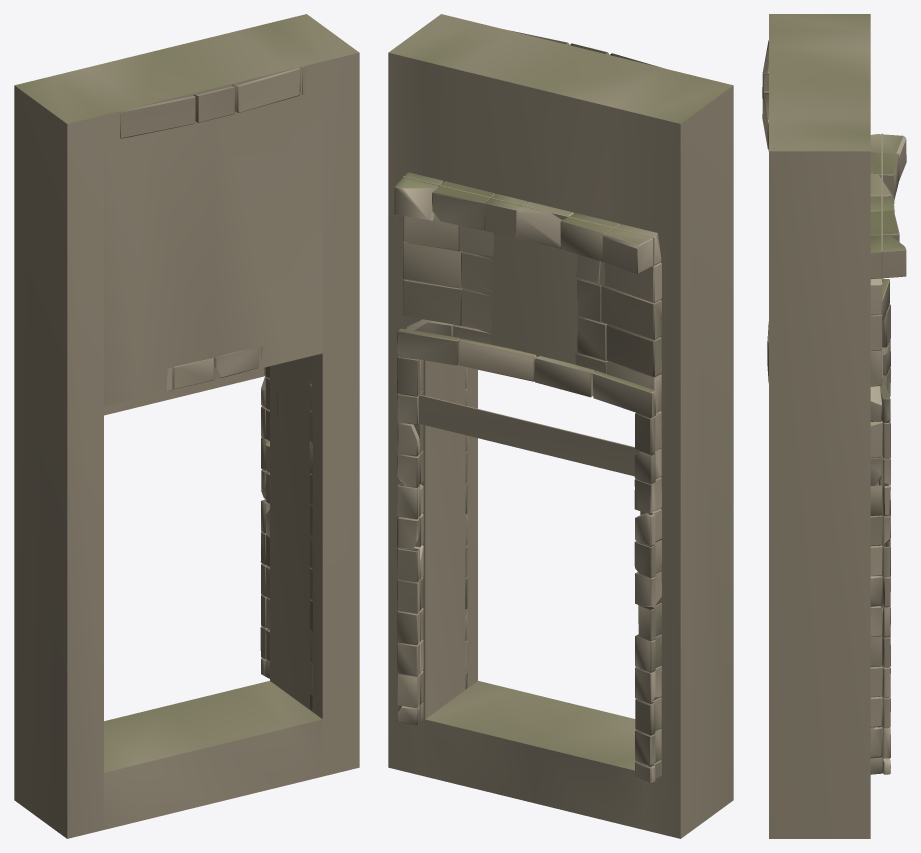
Rendered from dome_drum_door.glb.
3 views of the same model, side by side, from view 1: azimuth 30°, elevation 25°; view 2: azimuth 150°, elevation 25°; view 3: azimuth 270°, elevation 25° (orthographic). The views are drawn at different scales.
Parts seen in each view (by area): view 1: dome_drum_door_far, dome_drum_door; view 2: dome_drum_door_far, dome_drum_door; view 3: dome_drum_door_far, dome_drum_door.
Part boxes in pixels (box(x1,y1,x2,y2)): dome_drum_door_far: box(14, 14, 359, 838); dome_drum_door: box(120, 66, 312, 710); dome_drum_door_far: box(388, 14, 733, 838); dome_drum_door: box(394, 30, 662, 783); dome_drum_door_far: box(769, 14, 882, 838); dome_drum_door: box(762, 40, 906, 774).
Bounding box in the file's own units: 21.4 × 50 × 9.49.
